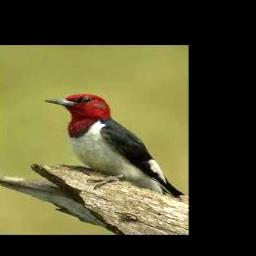Woodpecker: (44, 94, 185, 198)
